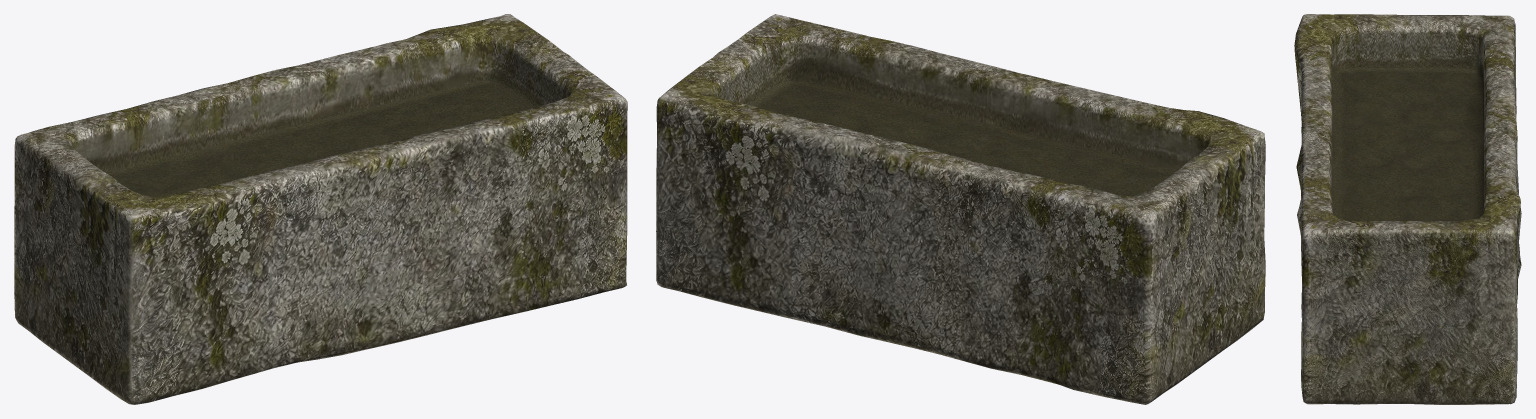
File: water_trough_stone.glb
3 renders of one model, left to right at view 1: azimuth 30°, elevation 25°; view 2: azimuth 150°, elevation 25°; view 3: azimuth 270°, elevation 25°, orthographic. The views are drawn at different scales.
Bounding box in the file's own units: 1.6 × 0.6 × 0.7.
Materials: 1 (1 with a texture image).
